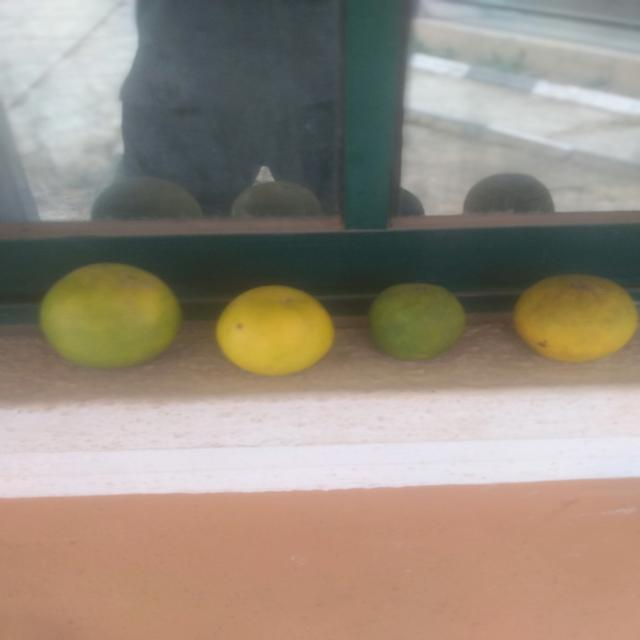Ripe orange: (499, 255, 640, 394), (209, 276, 327, 386)
Unripe: (31, 266, 180, 372), (348, 274, 478, 380)
